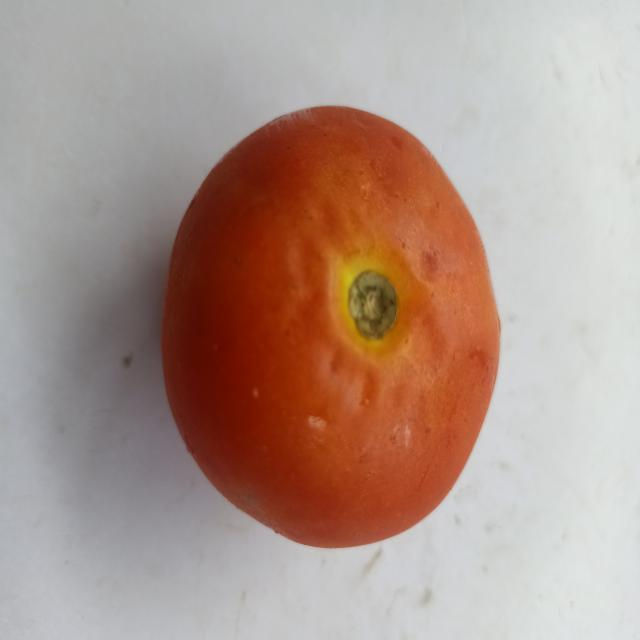Tomato: (144, 75, 516, 561)
